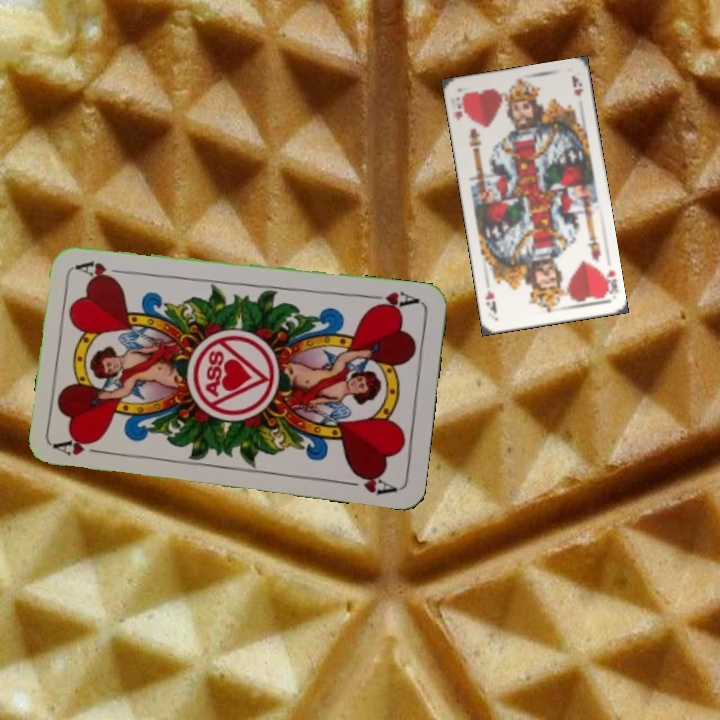HA: (363, 288, 422, 314), (52, 434, 111, 458)
HK: (597, 265, 621, 300), (449, 90, 470, 123)
